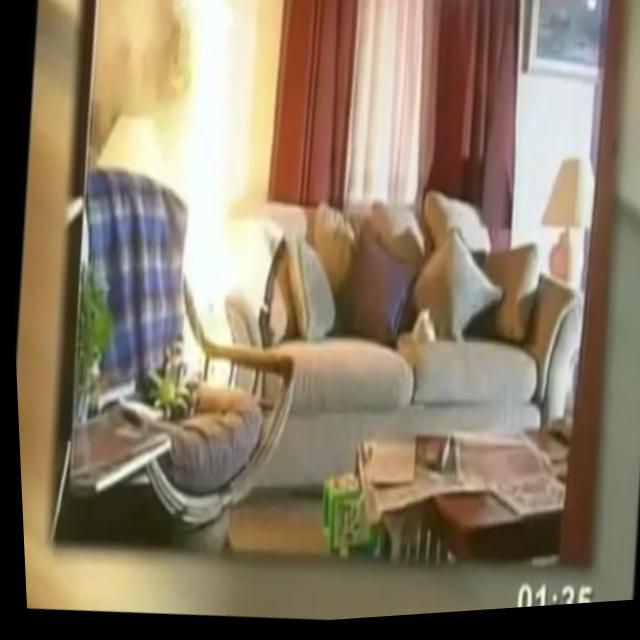fire: (127, 0, 272, 383)
